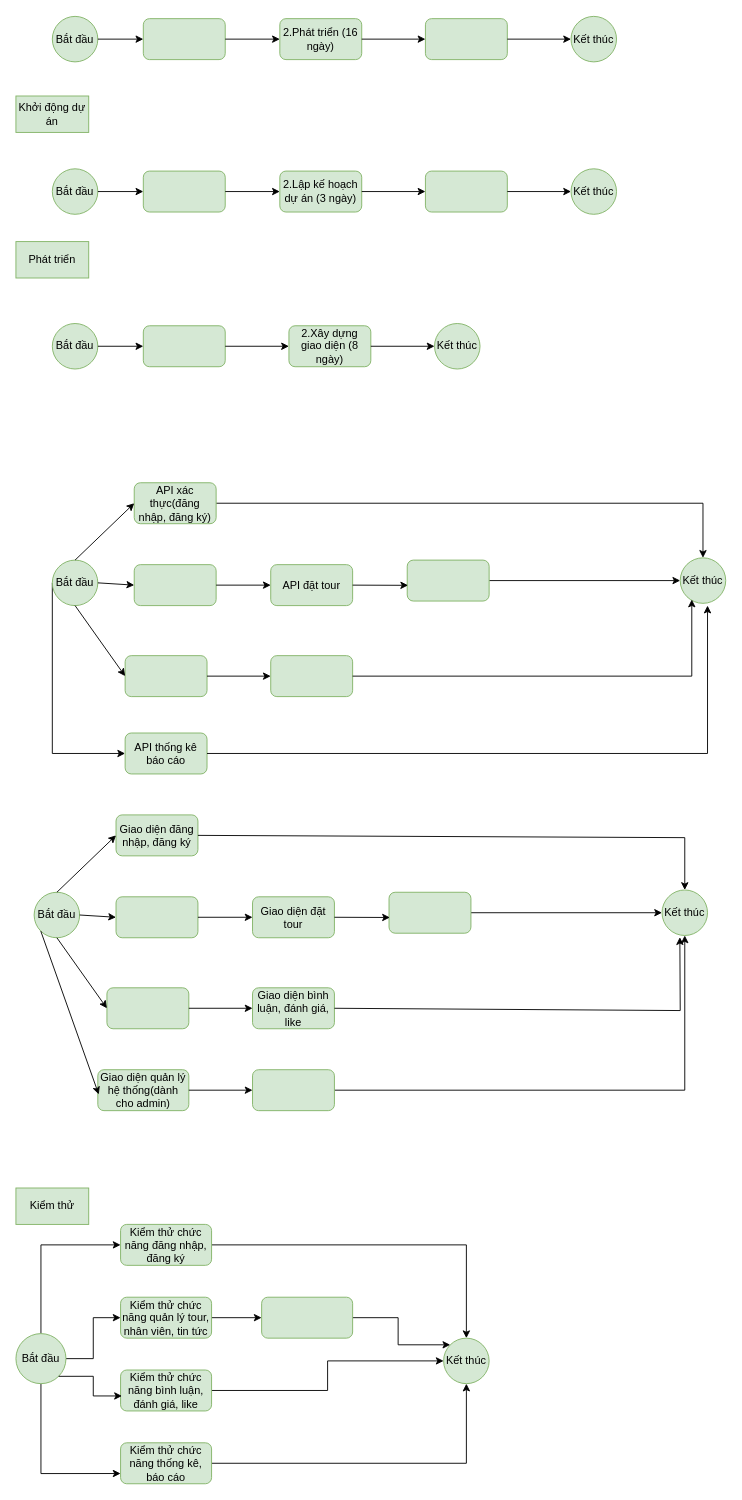
Some shapes in this 742 by 1500 pixel diagram are drawn without their labels. Here are the shapes that lost their labels. From the top down, the centre of each, then its label:
the point at 183,39: 1.Khởi động dự án (9 ngày)
the point at 466,39: 3.Kiểm thử (10 ngày)
the point at 183,191: 1.Xác định yêu cầu (2 ngày)
the point at 466,191: 3. Thiết kế (4 ngày)
the point at 183,346: 1.Xây dựng Backend (8 ngày)
the point at 174,585: API quản lý tour
the point at 447,580: API thanh toán
the point at 165,676: API quản lý tin tức
the point at 311,676: API quản lý bình luận, đánh giá, like
the point at 156,917: Giao diện hiển thị danh sách tour, chi tiết tour
the point at 429,912: Giao diện thanh toán
the point at 147,1008: Giao diện xem tin tức
the point at 293,1090: Giao diện thống kê(dành cho admin)
the point at 307,1317: Kiểm thử chức năng đặt tour, thanh toán
